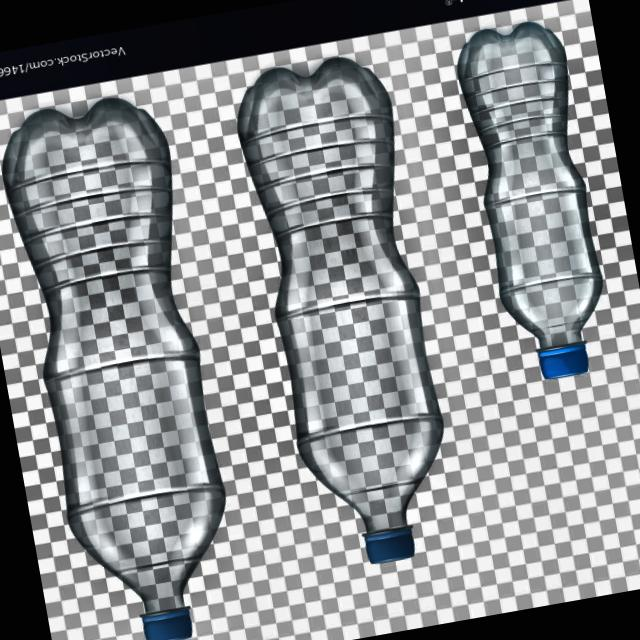plastic bottle: (3, 98, 225, 614), (238, 58, 443, 534), (458, 22, 602, 348)
